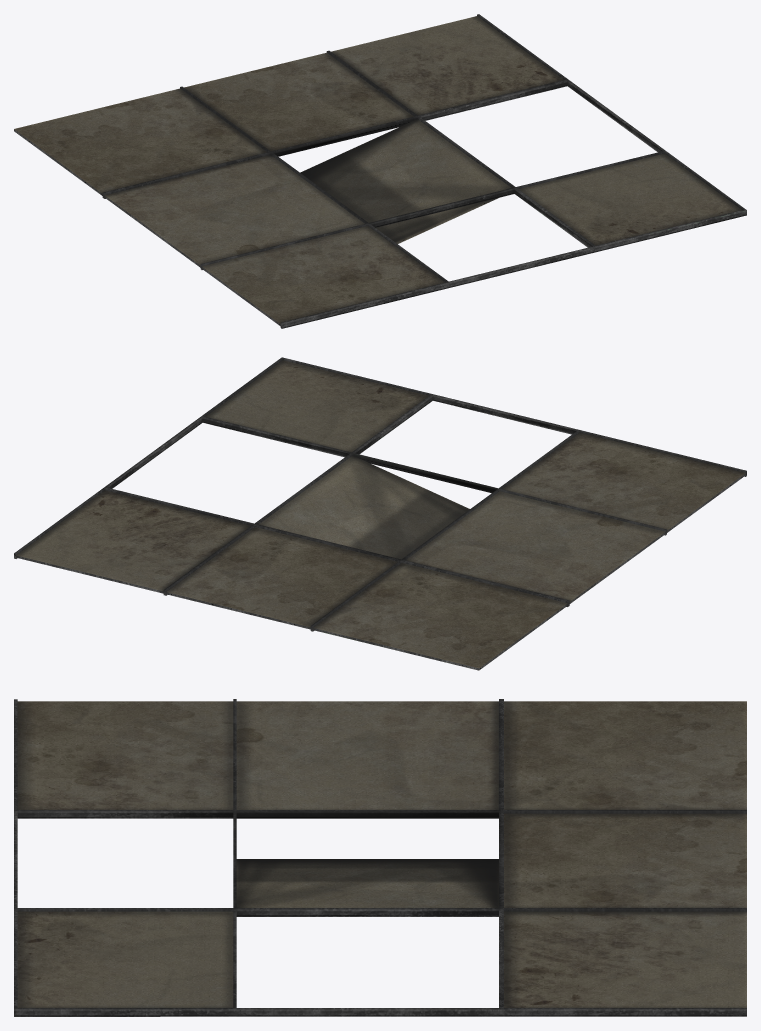
Rendered from Celing1.fbx.
3 renders of one model, top to bottom at view 1: azimuth 30°, elevation 25°; view 2: azimuth 150°, elevation 25°; view 3: azimuth 270°, elevation 25°, orthographic. The views are drawn at different scales.
Visible parts, largest first — view 1: Cube_001; view 2: Cube_001; view 3: Cube_001.
Boxes of the visible parts, x1,y1,x2,y2 form: Cube_001: (14,14,746,328); Cube_001: (14,357,746,670); Cube_001: (14,699,746,1016).
Bounding box in the file's own units: 5.6 × 0.3739 × 5.59.
